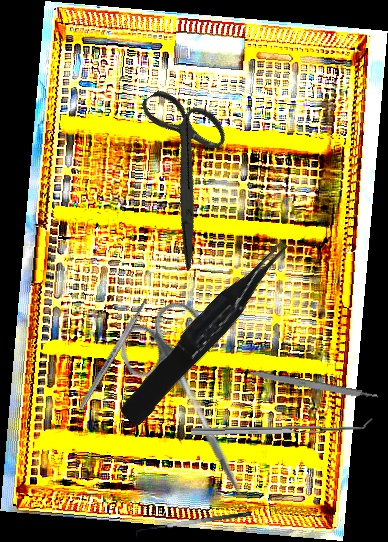Iris Scissors: (110, 294, 284, 516), (89, 71, 280, 273)
Scalpel Handle: (77, 297, 150, 411), (245, 368, 380, 403)
Spatula Surgical: (134, 510, 253, 541), (190, 417, 374, 436)
Tissue Forceps: (110, 235, 304, 429)
